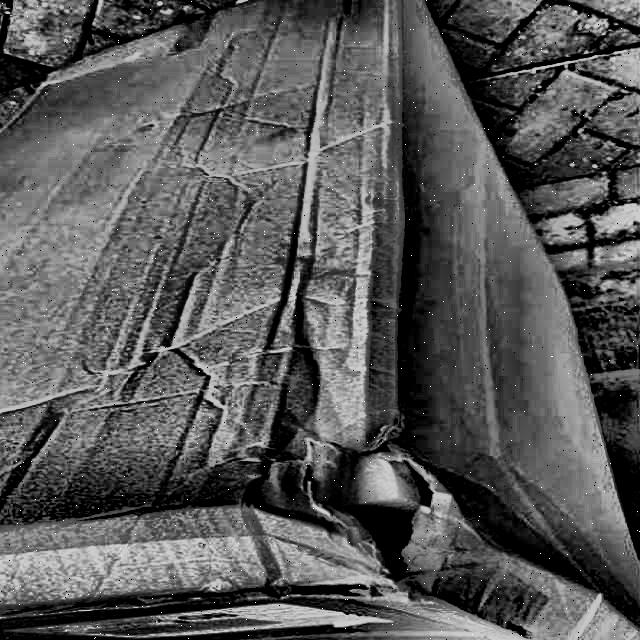box: (0, 0, 640, 640)
hole: (287, 413, 459, 583)
